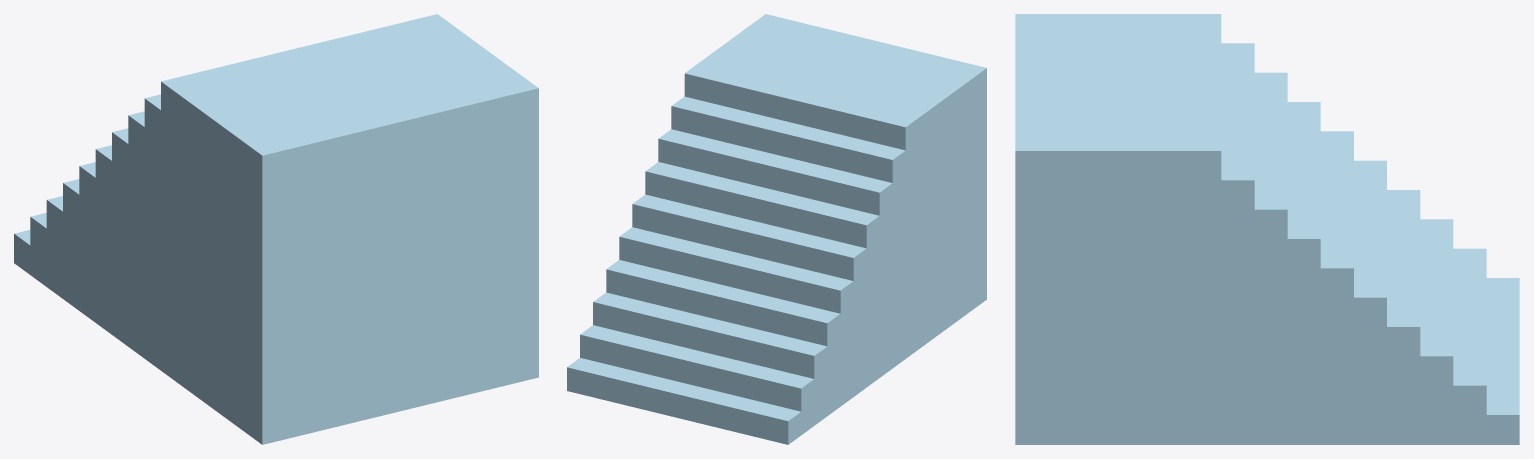
The model's file is Stair_Stone.fbx.
3 views of the same model, side by side, from view 1: azimuth 30°, elevation 25°; view 2: azimuth 150°, elevation 25°; view 3: azimuth 270°, elevation 25° (orthographic). The views are drawn at different scales.
Parts seen in each view (by area): view 1: Stair_Stone; view 2: Stair_Stone; view 3: Stair_Stone.
Boxes of the visible parts, x1,y1,x2,y2 form: Stair_Stone: [14, 14, 538, 444]; Stair_Stone: [567, 14, 986, 444]; Stair_Stone: [1015, 14, 1519, 444].
Bounding box in the file's own units: 1800 × 1800 × 2800.
